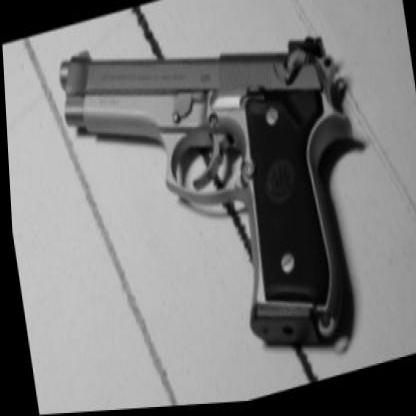pistol: (51, 0, 388, 410)
